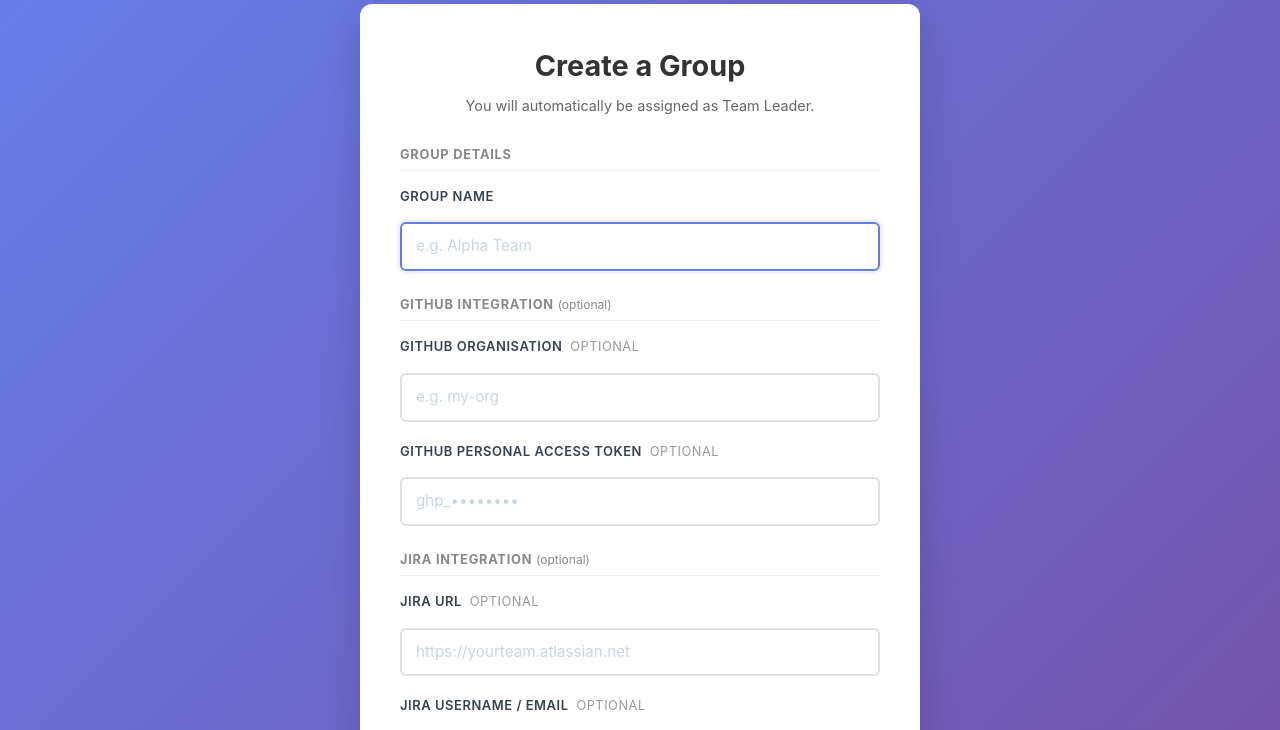
Test case: GroupCreationPage › Group Creation Form › shows error on duplicate group name
Type "Existing Group" into the field labelled "Group Name".
click(640, 247); type("Existing Group")  # box [400,222,880,271]
(page scrolled)
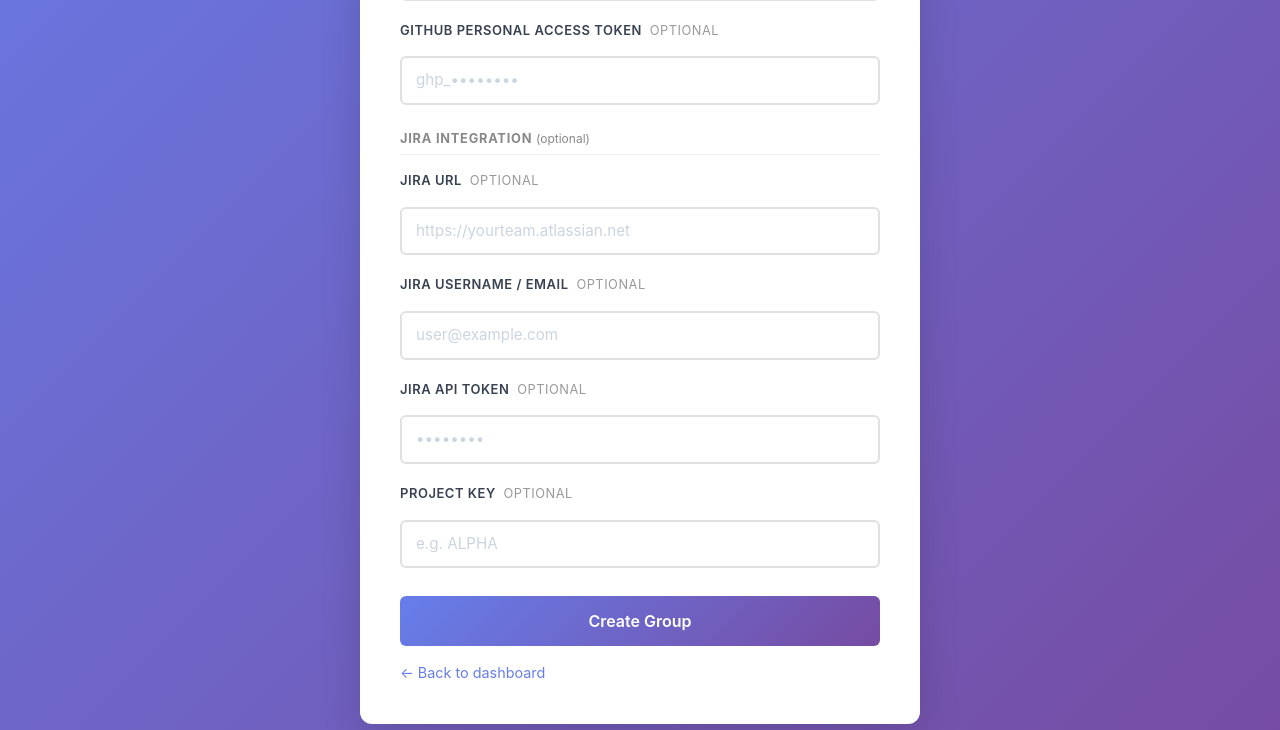
Click the button "Create Group".
click(640, 621)  # box [400,596,880,646]
(page scrolled)
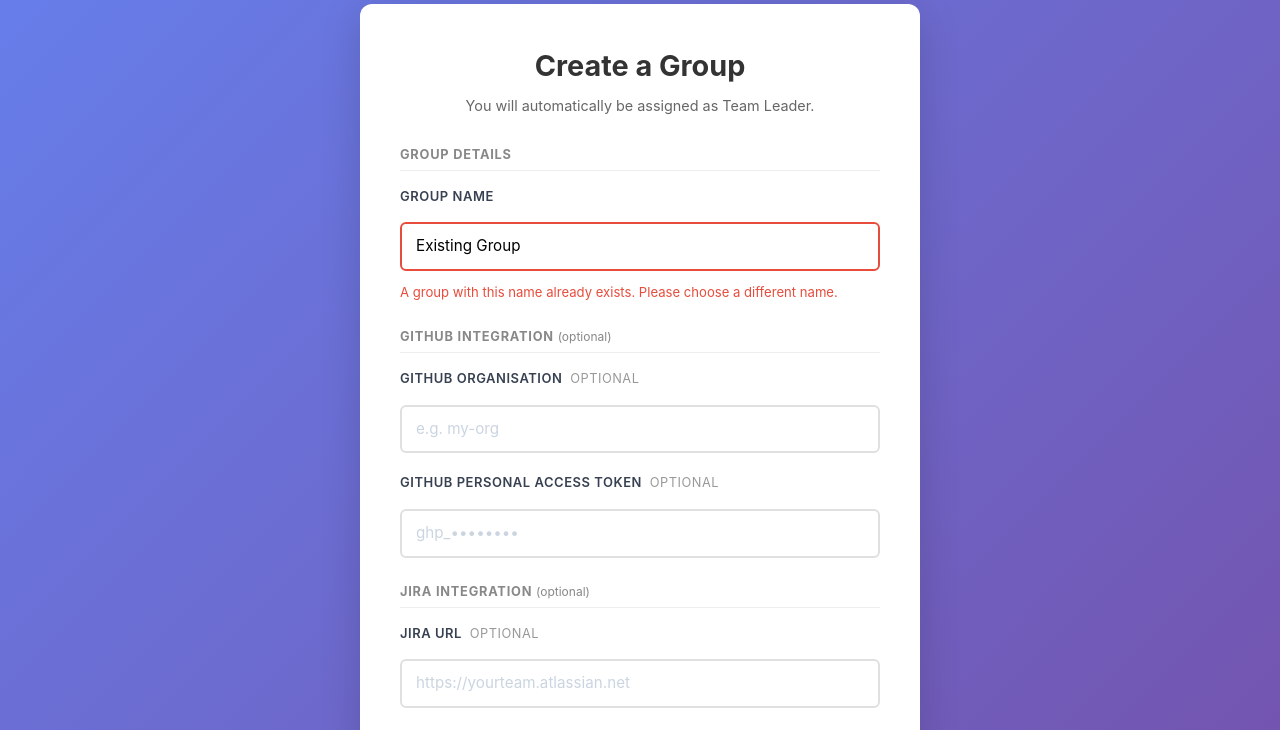
Check: the text "group with this name already exists" is shown, box [400,284,838,300]
